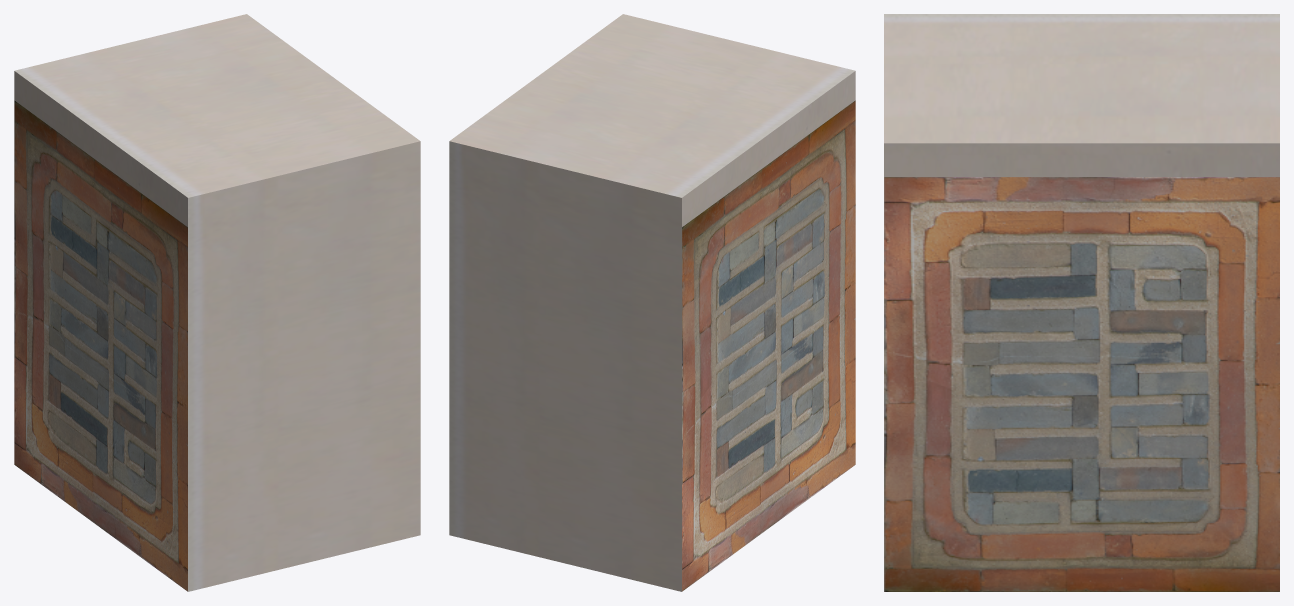
Rendered from SM_StonewallPattern02B.fbx.
3 views of the same model, side by side, from view 1: azimuth 30°, elevation 25°; view 2: azimuth 150°, elevation 25°; view 3: azimuth 270°, elevation 25° (orthographic). The views are drawn at different scales.
Parts seen in each view (by area): view 1: SM_StonewallPattern02B; view 2: SM_StonewallPattern02B; view 3: SM_StonewallPattern02B.
Part boxes in pixels (bbox=[...]): SM_StonewallPattern02B: bbox=[14, 14, 420, 591]; SM_StonewallPattern02B: bbox=[449, 14, 855, 591]; SM_StonewallPattern02B: bbox=[884, 14, 1279, 591].
Size of the model in its own units: 57 by 73.78 by 92.29.
Materials: 1 (1 with a texture image).
